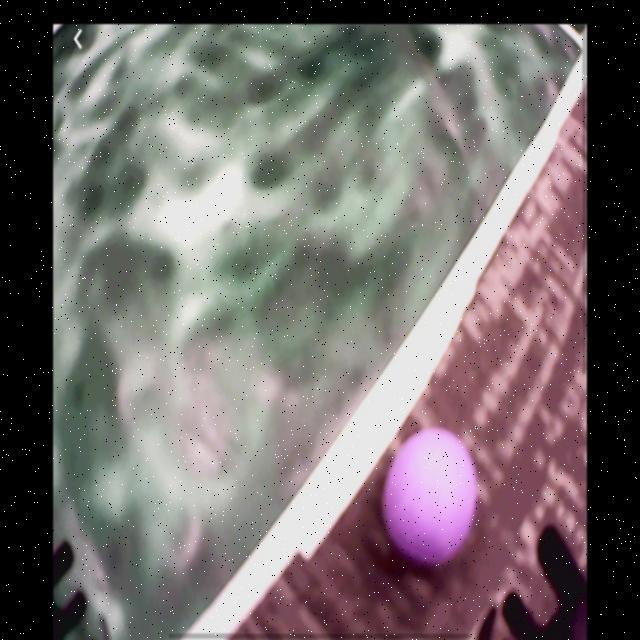ball: (383, 427, 480, 572)
